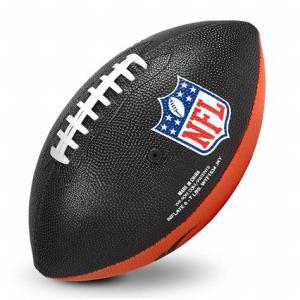Rugby: (30, 19, 266, 281)
